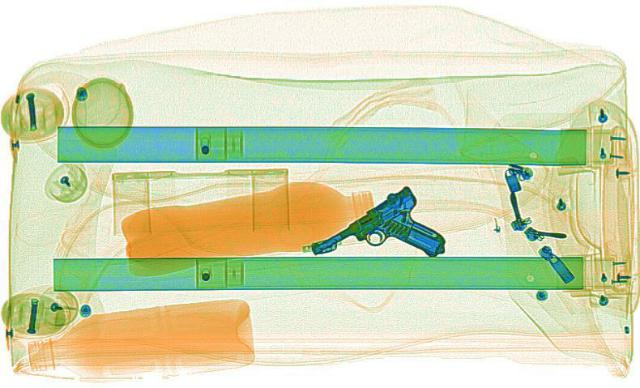Gun: (306, 183, 486, 285)
